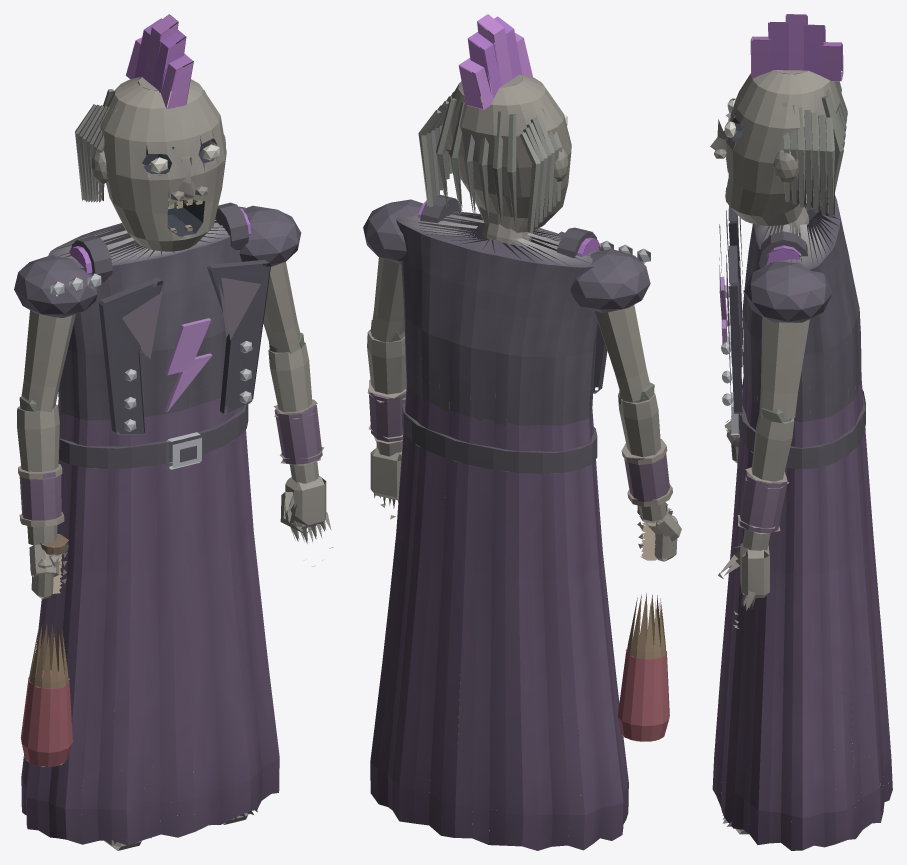
The model's file is GrannyPunk.glb.
The picture shows the model from 3 angles, left to right: view 1: azimuth 30°, elevation 25°; view 2: azimuth 150°, elevation 25°; view 3: azimuth 270°, elevation 25°; orthographic projection.
Visible parts, largest first — view 1: Body, Head, ArmR, ArmL; view 2: Body, Head, ArmR, ArmL; view 3: Body, Head, ArmL, ArmR.
Part boxes in pixels (x1,y1,x2,y2): Body: (21, 202, 279, 845); Head: (75, 14, 226, 251); ArmR: (14, 255, 101, 767); ArmL: (239, 205, 333, 566); Body: (370, 194, 628, 850); Head: (418, 14, 571, 232); ArmR: (570, 240, 681, 741); ArmL: (363, 199, 423, 519); Body: (712, 187, 892, 850); Head: (710, 14, 847, 225); ArmL: (718, 261, 832, 628); ArmR: (724, 191, 821, 463).
Size of the model in its own units: 2.62 by 6.55 by 1.36.
